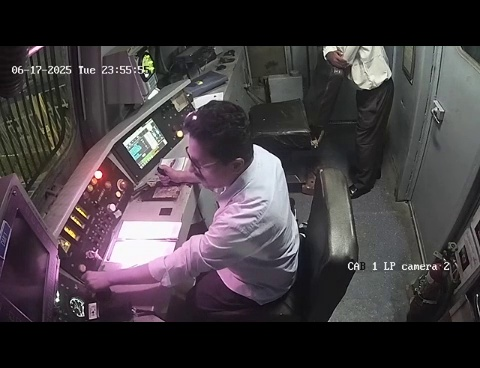horn_active: (66, 256, 134, 307)
